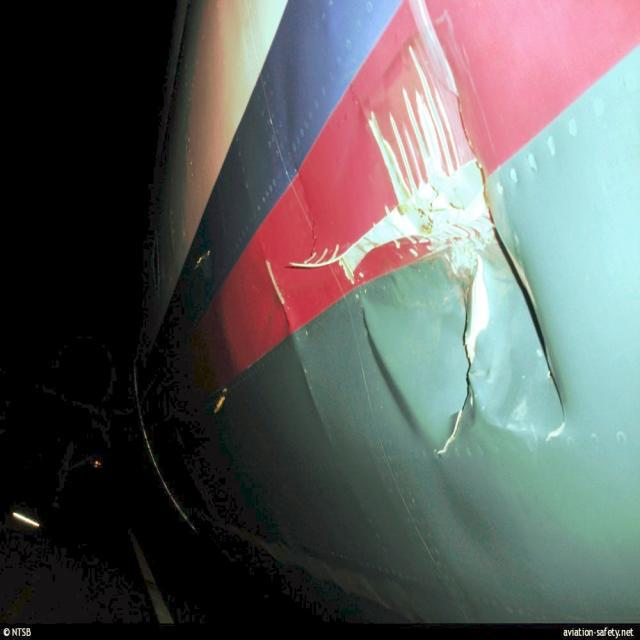crack: (433, 256, 492, 460)
